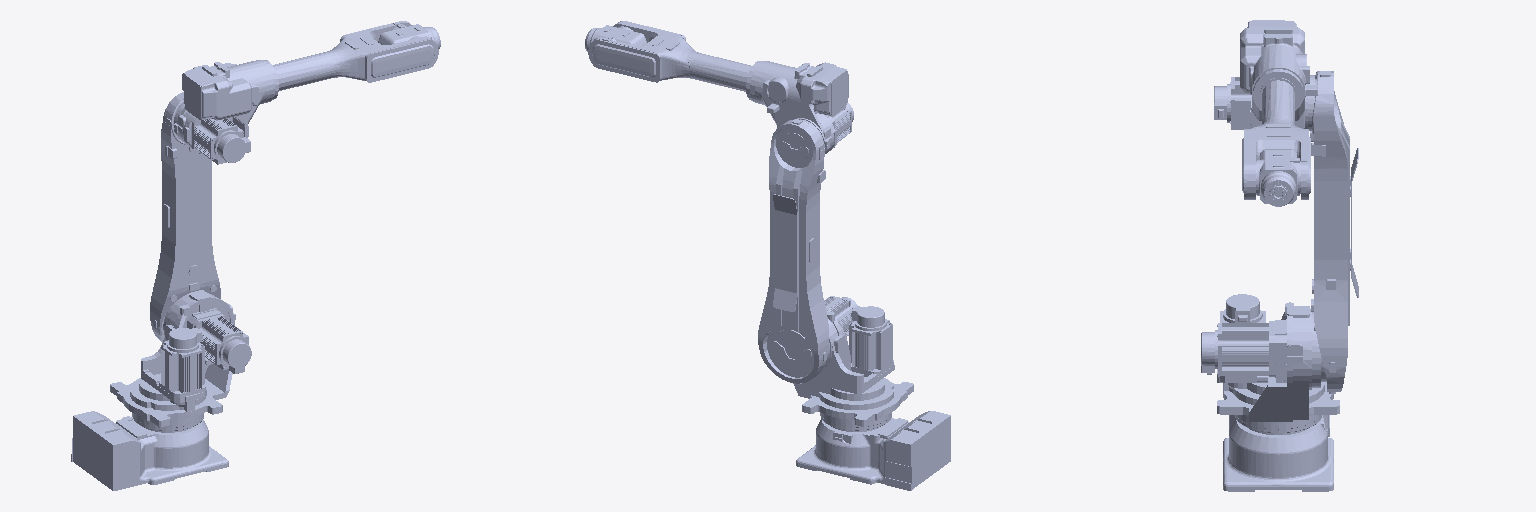
robot.urdf — hh020_ver1:
<?xml version="1.0" encoding="utf-8"?>
<!-- This URDF was automatically created by SolidWorks to URDF Exporter! Originally created by [author] ([email redacted]) 
     Commit Version: 1.6.0-4-g7f85cfe  Build Version: 1.6.7995.38578
     For more information, please see http://wiki.ros.org/sw_urdf_exporter -->
<robot
  name="hh020_ver1">
  <link
    name="base_link">
    <inertial>
      <origin
        xyz="-0.094837 0.00034593 0.080005"
        rpy="0 0 0" />
      <mass
        value="17.103" />
      <inertia
        ixx="0.13544"
        ixy="0.00059306"
        ixz="0.015664"
        iyy="0.31603"
        iyz="3.3743E-05"
        izz="0.37543" />
    </inertial>
    <visual>
      <origin
        xyz="0 0 0"
        rpy="0 0 0" />
      <geometry>
        <mesh
          filename="package://hh020_ver1/meshes/base_link.STL" />
      </geometry>
      <material
        name="">
        <color
          rgba="0.79216 0.81961 0.93333 1" />
      </material>
    </visual>
    <collision>
      <origin
        xyz="0 0 0"
        rpy="0 0 0" />
      <geometry>
        <mesh
          filename="package://hh020_ver1/meshes/base_link.STL" />
      </geometry>
    </collision>
  </link>
  <link
    name="lower_frame">
    <inertial>
      <origin
        xyz="0.072067 -0.0086463 0.18762"
        rpy="0 0 0" />
      <mass
        value="19.865" />
      <inertia
        ixx="0.17864"
        ixy="-0.018812"
        ixz="-0.061412"
        iyy="0.23303"
        iyz="-0.021951"
        izz="0.18982" />
    </inertial>
    <visual>
      <origin
        xyz="0 0 0"
        rpy="0 0 0" />
      <geometry>
        <mesh
          filename="package://hh020_ver1/meshes/lower_frame.STL" />
      </geometry>
      <material
        name="">
        <color
          rgba="0.79216 0.81961 0.93333 1" />
      </material>
    </visual>
    <collision>
      <origin
        xyz="0 0 0"
        rpy="0 0 0" />
      <geometry>
        <mesh
          filename="package://hh020_ver1/meshes/lower_frame.STL" />
      </geometry>
    </collision>
  </link>
  <joint
    name="lower"
    type="revolute">
    <origin
      xyz="0 0 0.162"
      rpy="0 0 0" />
    <parent
      link="base_link" />
    <child
      link="lower_frame" />
    <axis
      xyz="0 0 1" />
    <limit
      lower="-3.229"
      upper="3.229"
      effort="150"
      velocity="3.316" />
  </joint>
  <link
    name="upper_frame">
    <inertial>
      <origin
        xyz="-0.00010751 0.0068369 0.36285"
        rpy="0 0 0" />
      <mass
        value="11.176" />
      <inertia
        ixx="0.62235"
        ixy="5.5619E-06"
        ixz="0.00028138"
        iyy="0.64621"
        iyz="0.010765"
        izz="0.038783" />
    </inertial>
    <visual>
      <origin
        xyz="0 0 0"
        rpy="0 0 0" />
      <geometry>
        <mesh
          filename="package://hh020_ver1/meshes/upper_frame.STL" />
      </geometry>
      <material
        name="">
        <color
          rgba="0.79216 0.81961 0.93333 1" />
      </material>
    </visual>
    <collision>
      <origin
        xyz="0 0 0"
        rpy="0 0 0" />
      <geometry>
        <mesh
          filename="package://hh020_ver1/meshes/upper_frame.STL" />
      </geometry>
    </collision>
  </link>
  <joint
    name="upper"
    type="revolute">
    <origin
      xyz="0.16 0.1419 0.2846"
      rpy="0 0 0" />
    <parent
      link="lower_frame" />
    <child
      link="upper_frame" />
    <axis
      xyz="0 1 0" />
    <limit
      lower="-1.222"
      upper="3.403"
      effort="150"
      velocity="3.142" />
  </joint>
  <link
    name="arm_frame">
    <inertial>
      <origin
        xyz="0.042152 -0.13965 0.080961"
        rpy="0 0 0" />
      <mass
        value="12.299" />
      <inertia
        ixx="0.077578"
        ixy="0.0039974"
        ixz="-0.014934"
        iyy="0.095659"
        iyz="0.010098"
        izz="0.073131" />
    </inertial>
    <visual>
      <origin
        xyz="0 0 0"
        rpy="0 0 0" />
      <geometry>
        <mesh
          filename="package://hh020_ver1/meshes/arm_frame.STL" />
      </geometry>
      <material
        name="">
        <color
          rgba="0.79216 0.81961 0.93333 1" />
      </material>
    </visual>
    <collision>
      <origin
        xyz="0 0 0"
        rpy="0 0 0" />
      <geometry>
        <mesh
          filename="package://hh020_ver1/meshes/arm_frame.STL" />
      </geometry>
    </collision>
  </link>
  <joint
    name="arm"
    type="revolute">
    <origin
      xyz="0 -0.0104 0.77"
      rpy="0 0 0" />
    <parent
      link="upper_frame" />
    <child
      link="arm_frame" />
    <axis
      xyz="0 1 0" />
    <limit
      lower="-1.396"
      upper="3.141"
      effort="150"
      velocity="3.316" />
  </joint>
  <link
    name="wrist_frame">
    <inertial>
      <origin
        xyz="0.33419 -0.0048996 9.1409E-05"
        rpy="0 0 0" />
      <mass
        value="6.5587" />
      <inertia
        ixx="0.017572"
        ixy="0.0048652"
        ixz="-5.6686E-05"
        iyy="0.18161"
        iyz="-9.4766E-06"
        izz="0.18844" />
    </inertial>
    <visual>
      <origin
        xyz="0 0 0"
        rpy="0 0 0" />
      <geometry>
        <mesh
          filename="package://hh020_ver1/meshes/wrist_frame.STL" />
      </geometry>
      <material
        name="">
        <color
          rgba="0.79216 0.81961 0.93333 1" />
      </material>
    </visual>
    <collision>
      <origin
        xyz="0 0 0"
        rpy="0 0 0" />
      <geometry>
        <mesh
          filename="package://hh020_ver1/meshes/wrist_frame.STL" />
      </geometry>
    </collision>
  </link>
  <joint
    name="wrist"
    type="revolute">
    <origin
      xyz="0.2135 -0.1315 0.14"
      rpy="0 0 0" />
    <parent
      link="arm_frame" />
    <child
      link="wrist_frame" />
    <axis
      xyz="1 0 0" />
    <limit
      lower="-3.403"
      upper="3.403"
      effort="39.2"
      velocity="6.632" />
  </joint>
  <link
    name="end_connector">
    <inertial>
      <origin
        xyz="0.00088677 -0.061435 0.00015943"
        rpy="0 0 0" />
      <mass
        value="2.2391" />
      <inertia
        ixx="0.0040127"
        ixy="-2.7735E-06"
        ixz="-6.8315E-06"
        iyy="0.0049003"
        iyz="-7.8348E-06"
        izz="0.0052929" />
    </inertial>
    <visual>
      <origin
        xyz="0 0 0"
        rpy="0 0 0" />
      <geometry>
        <mesh
          filename="package://hh020_ver1/meshes/end_connector.STL" />
      </geometry>
      <material
        name="">
        <color
          rgba="0.79216 0.81961 0.93333 1" />
      </material>
    </visual>
    <collision>
      <origin
        xyz="0 0 0"
        rpy="0 0 0" />
      <geometry>
        <mesh
          filename="package://hh020_ver1/meshes/end_connector.STL" />
      </geometry>
    </collision>
  </link>
  <joint
    name="end_connector"
    type="revolute">
    <origin
      xyz="0.5865 0.0615 0"
      rpy="0 0 0" />
    <parent
      link="wrist_frame" />
    <child
      link="end_connector" />
    <axis
      xyz="0 -1 0" />
    <limit
      lower="-2.356"
      upper="2.356"
      effort="39.2"
      velocity="6.632" />
  </joint>
  <link
    name="end_frame">
    <inertial>
      <origin
        xyz="0.003229 -2.5625E-14 -7.2253E-06"
        rpy="0 0 0" />
      <mass
        value="0.009731" />
      <inertia
        ixx="3.6926E-06"
        ixy="8.6418E-19"
        ixz="2.0953E-10"
        iyy="1.9671E-06"
        iyz="3.8014E-18"
        izz="1.8102E-06" />
    </inertial>
    <visual>
      <origin
        xyz="0 0 0"
        rpy="0 0 0" />
      <geometry>
        <mesh
          filename="package://hh020_ver1/meshes/end_frame.STL" />
      </geometry>
      <material
        name="">
        <color
          rgba="0.79216 0.81961 0.93333 1" />
      </material>
    </visual>
    <collision>
      <origin
        xyz="0 0 0"
        rpy="0 0 0" />
      <geometry>
        <mesh
          filename="package://hh020_ver1/meshes/end_frame.STL" />
      </geometry>
    </collision>
  </link>
  <joint
    name="end"
    type="revolute">
    <origin
      xyz="0.105 -0.0615 0"
      rpy="0 0 0" />
    <parent
      link="end_connector" />
    <child
      link="end_frame" />
    <axis
      xyz="1 0 0" />
    <limit
      lower="-6.283"
      upper="6.283"
      effort="19.6"
      velocity="10.472" />
  </joint>
</robot>

--- Facts derived from the render (not from the file) ---
The picture shows the robot from 3 angles, left to right: view 1: azimuth 30°, elevation 25°; view 2: azimuth 150°, elevation 25°; view 3: azimuth 270°, elevation 25°; orthographic projection.
Robot: hh020_ver1 — 7 links, 6 joints (6 revolute); root link base_link; default pose: every joint at zero.
Links seen in each view (by area): view 1: lower_frame, upper_frame, base_link, arm_frame, wrist_frame, end_connector; view 2: upper_frame, lower_frame, base_link, arm_frame, wrist_frame, end_connector; view 3: lower_frame, upper_frame, base_link, arm_frame, wrist_frame, end_connector.
Link boxes in pixels (x1=…): lower_frame: x1=110, y1=290, x2=251, y2=430; upper_frame: x1=150, y1=92, x2=220, y2=342; base_link: x1=71, y1=411, x2=228, y2=490; arm_frame: x1=174, y1=60, x2=274, y2=164; wrist_frame: x1=263, y1=21, x2=438, y2=99; end_connector: x1=378, y1=24, x2=440, y2=48; upper_frame: x1=758, y1=119, x2=828, y2=384; lower_frame: x1=793, y1=296, x2=913, y2=430; base_link: x1=796, y1=411, x2=950, y2=490; arm_frame: x1=750, y1=61, x2=853, y2=153; wrist_frame: x1=588, y1=21, x2=761, y2=100; end_connector: x1=585, y1=25, x2=646, y2=51; lower_frame: x1=1201, y1=294, x2=1339, y2=432; upper_frame: x1=1310, y1=71, x2=1358, y2=393; base_link: x1=1223, y1=415, x2=1333, y2=491; arm_frame: x1=1214, y1=20, x2=1317, y2=130; wrist_frame: x1=1242, y1=69, x2=1310, y2=199; end_connector: x1=1257, y1=149, x2=1299, y2=206.
Bounding box of the posed robot: 1.38 × 0.4461 × 1.45 m (x, y, z).
7 mesh visuals loaded from 7 distinct referenced files (7 binary STL).